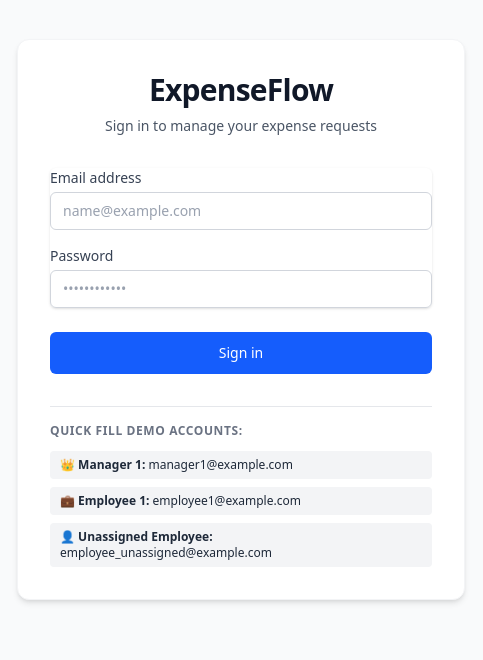
Test: LoginPage Component & In-Memory Auth › displays error alert when login fails
The width and height of the screenshot is (483, 660).
In the field labelled "Email address": (241, 210) 50,192 -> 432,230, type "wrong@example.com"
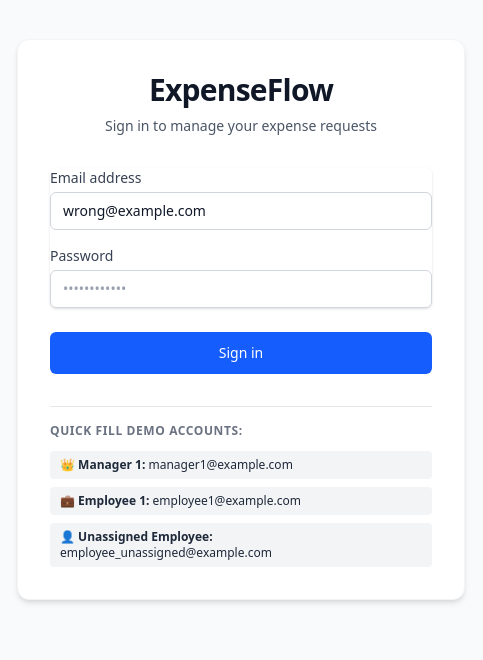
In the password field labelled "Password": (241, 288) 50,270 -> 432,308, type "wrong-password"
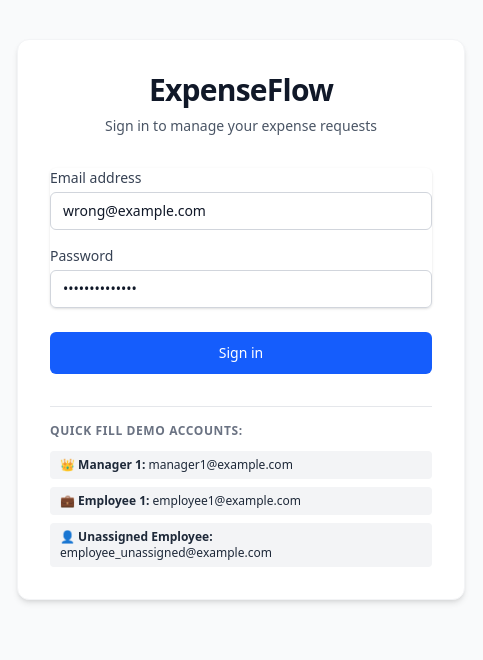
Click the button "Sign in": (241, 352) 50,332 -> 432,374
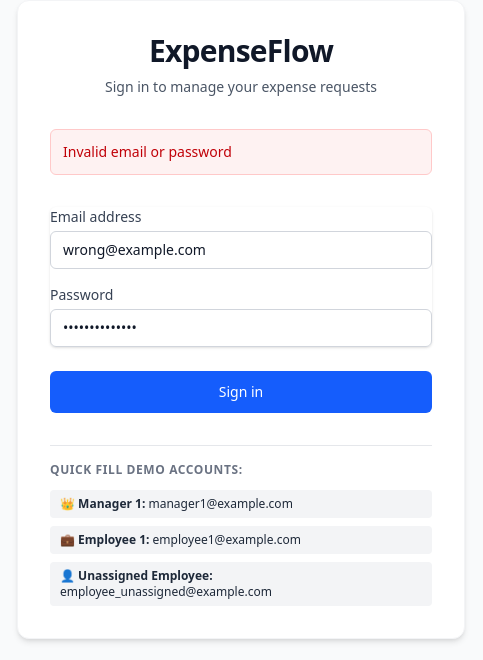
Check: the message reads "Invalid email or password", box 63,142 -> 232,160
